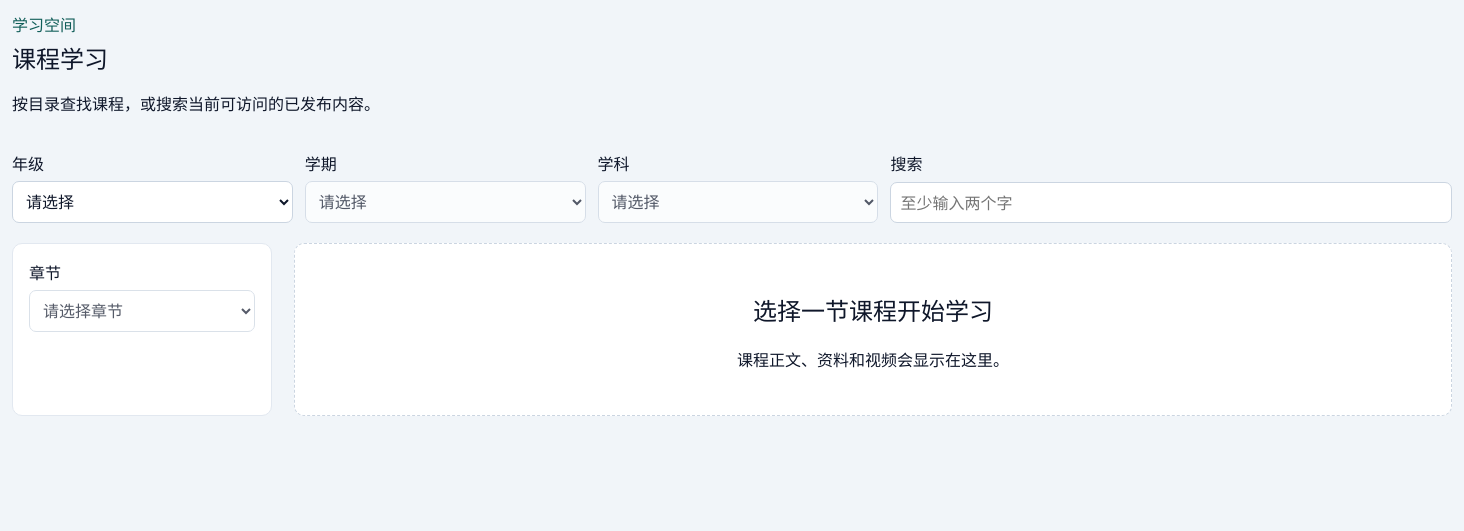
it: LearningView › debounces search and highlights matches without interpreting snippets as HTML
In the search field named "搜索课程": [1171, 202] box top-left (890, 182), bottom-right (1452, 223), type "力学"
Wait 250 ms
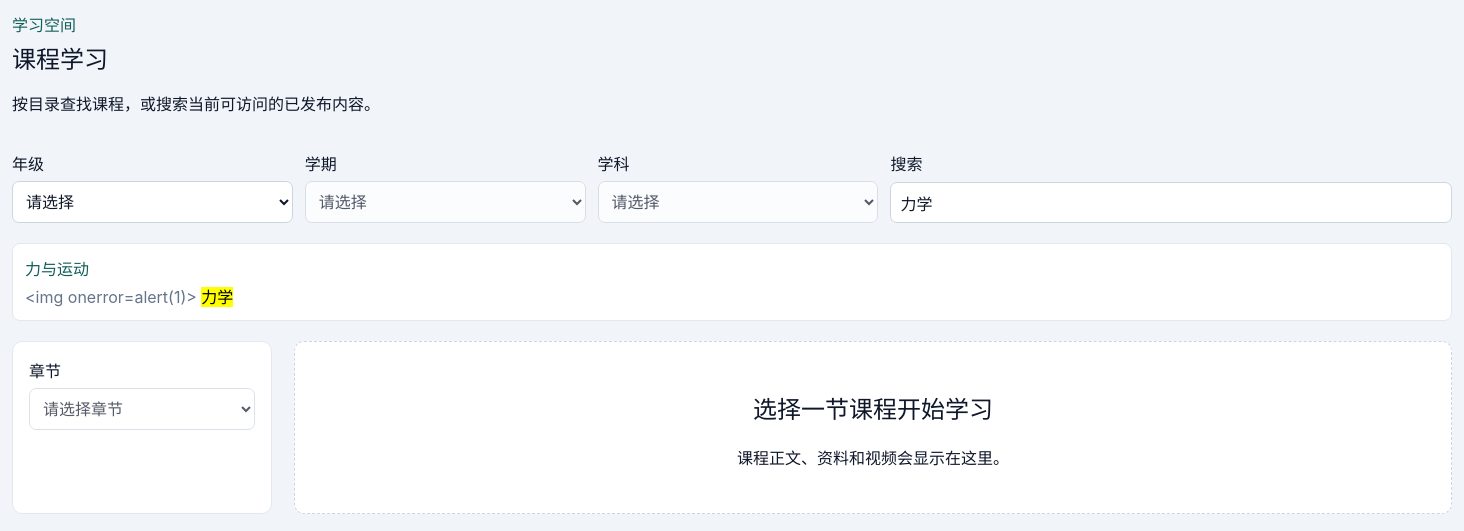
Result: the text "力学" is shown at top-left (201, 287), bottom-right (233, 307)
